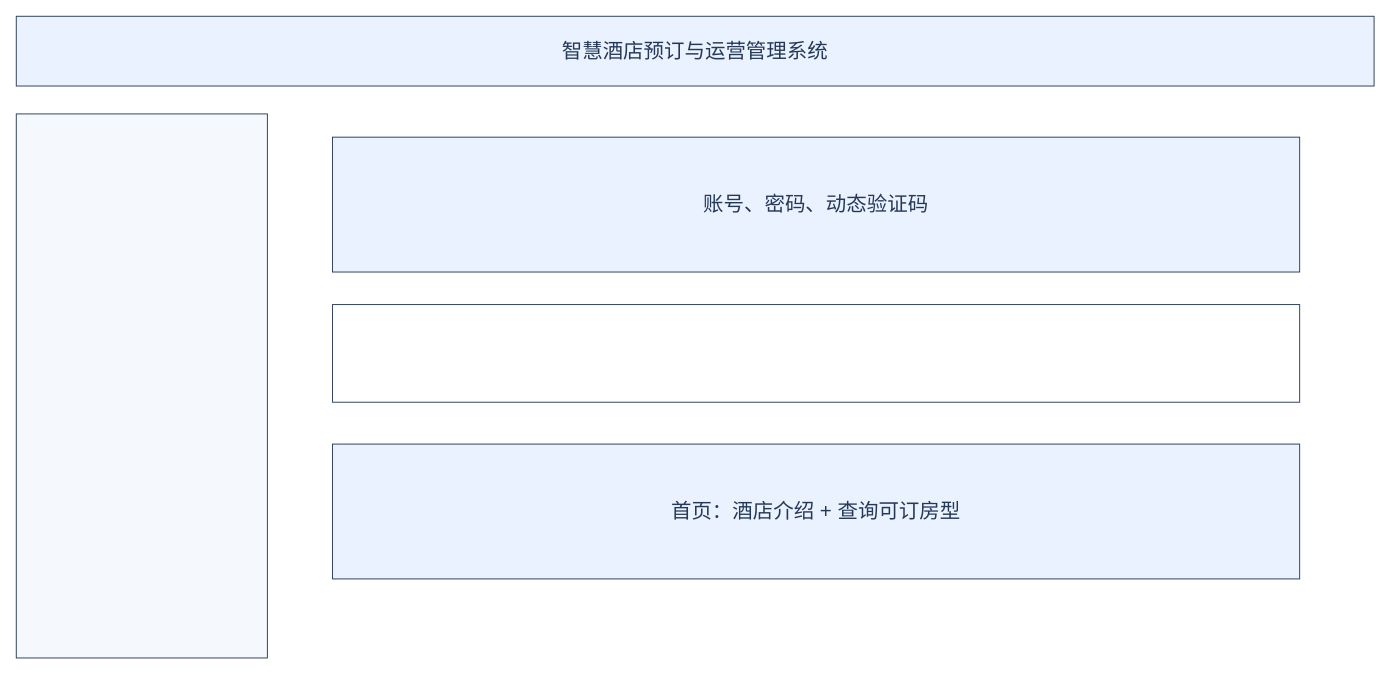
This 1390x674 diagram has some shape labels left out. The centre of each missing label's shape, as x and y in pixels:
登录 / 找回密码: point (141, 385)
登录 / 找回密码 / 注册: point (816, 353)
